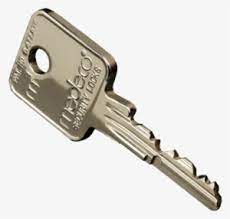key: (8, 7, 222, 211)
